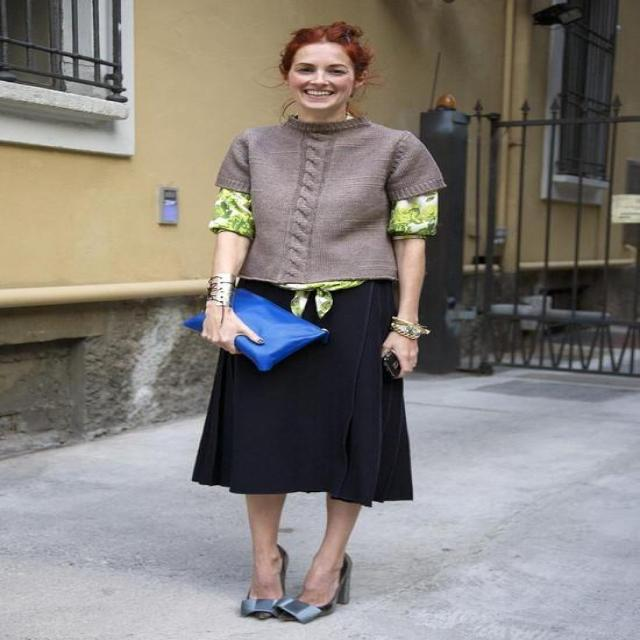skirt: (189, 274, 415, 507)
sweater: (214, 118, 446, 284)
